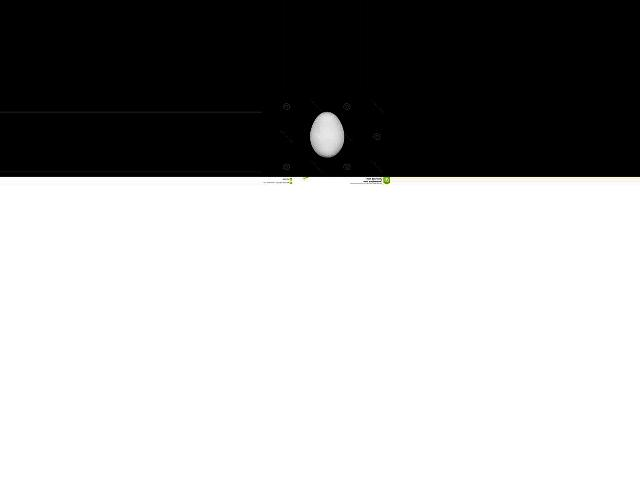egg: (308, 112, 343, 158)
